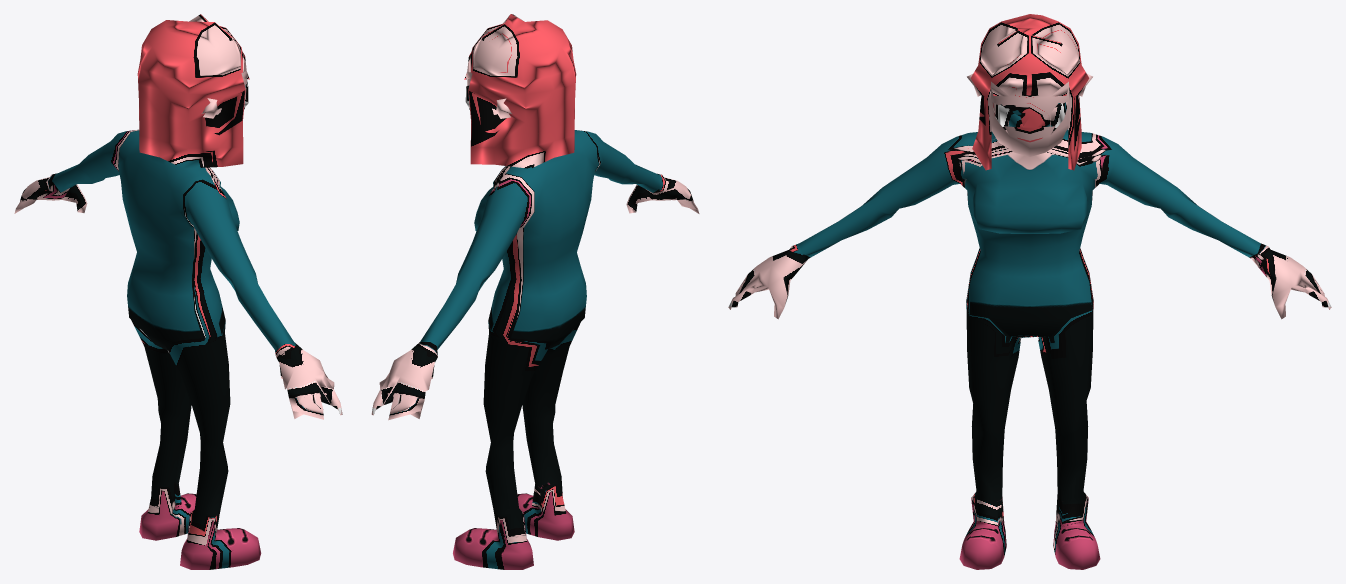
The model's file is petani_wanita.glb.
The picture shows the model from 3 angles, left to right: view 1: azimuth 30°, elevation 25°; view 2: azimuth 150°, elevation 25°; view 3: azimuth 270°, elevation 25°; orthographic projection.
Visible parts, largest first — view 1: mesh_char_126; view 2: mesh_char_126; view 3: mesh_char_126.
Part boxes in pixels (x1,y1,x2,y2): mesh_char_126: (14, 14, 342, 569); mesh_char_126: (371, 14, 699, 569); mesh_char_126: (728, 14, 1331, 569).
Bounding box in the file's own units: 0.9013 × 4.18 × 4.33.
Materials: 1 (1 with a texture image).
